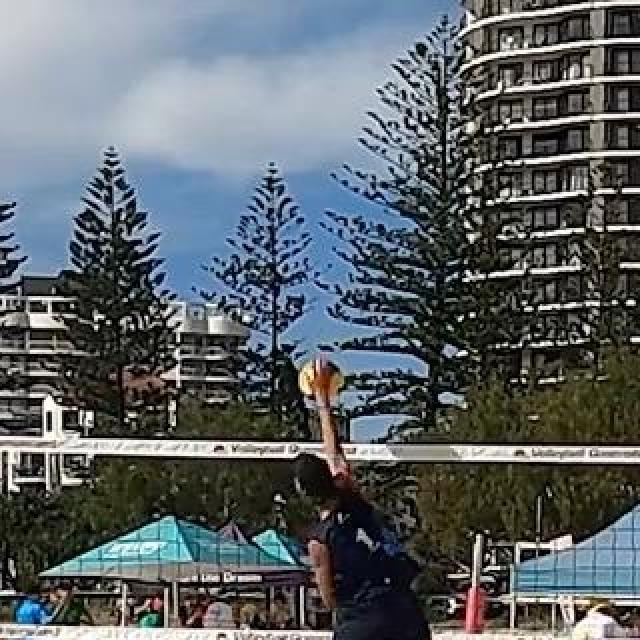volleyball: (300, 359, 344, 401)
